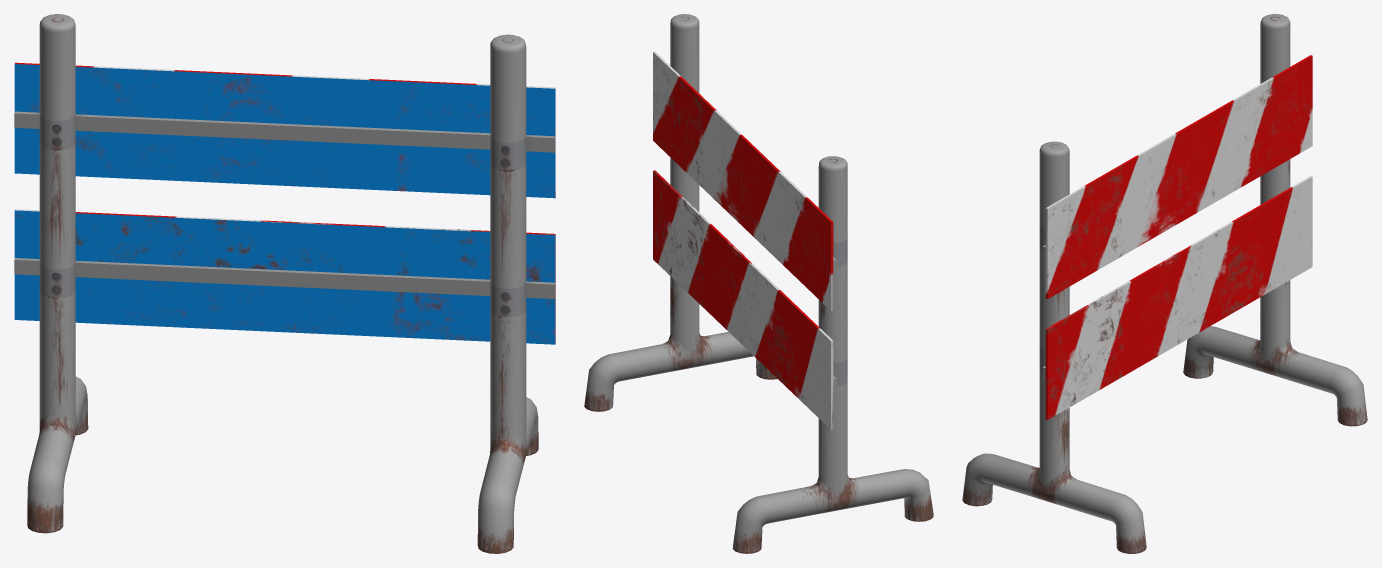
File: roadwork-barricade-textures-1k.glb
3 renders of one model, left to right at view 1: azimuth 30°, elevation 25°; view 2: azimuth 150°, elevation 25°; view 3: azimuth 270°, elevation 25°, orthographic. The views are drawn at different scales.
Visible parts, largest first — view 1: Object_19; view 2: Object_19; view 3: Object_19.
Boxes of the visible parts, left/top/right/bottom form: Object_19: left=14, top=14, right=555, bottom=553; Object_19: left=584, top=14, right=933, bottom=553; Object_19: left=962, top=14, right=1367, bottom=553.
Bounding box in the file's own units: 1.21 × 1.13 × 1.1.
Materials: 1 (1 with a texture image).
